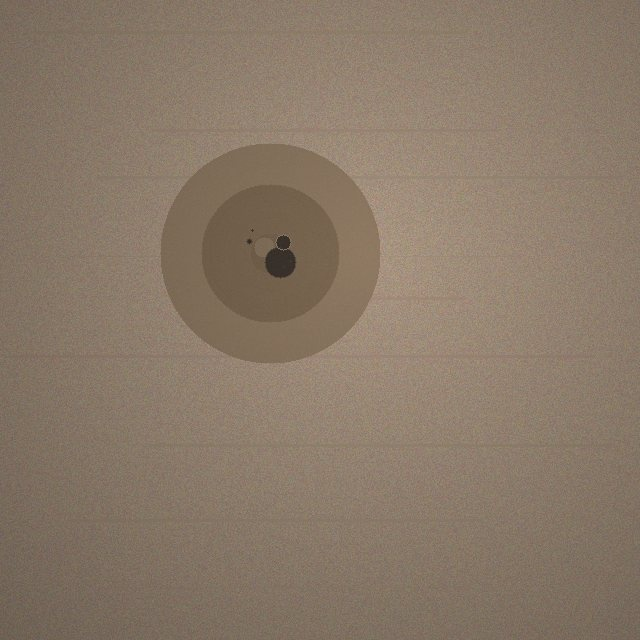shrinkage: (160, 143, 380, 363)
